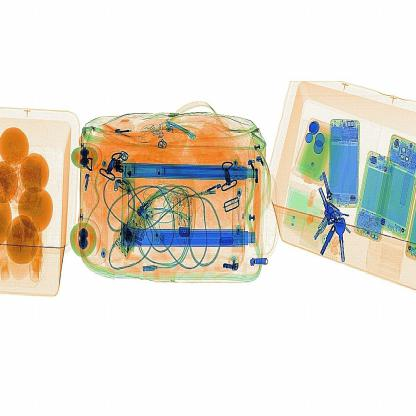scissors: (110, 155, 132, 179)
